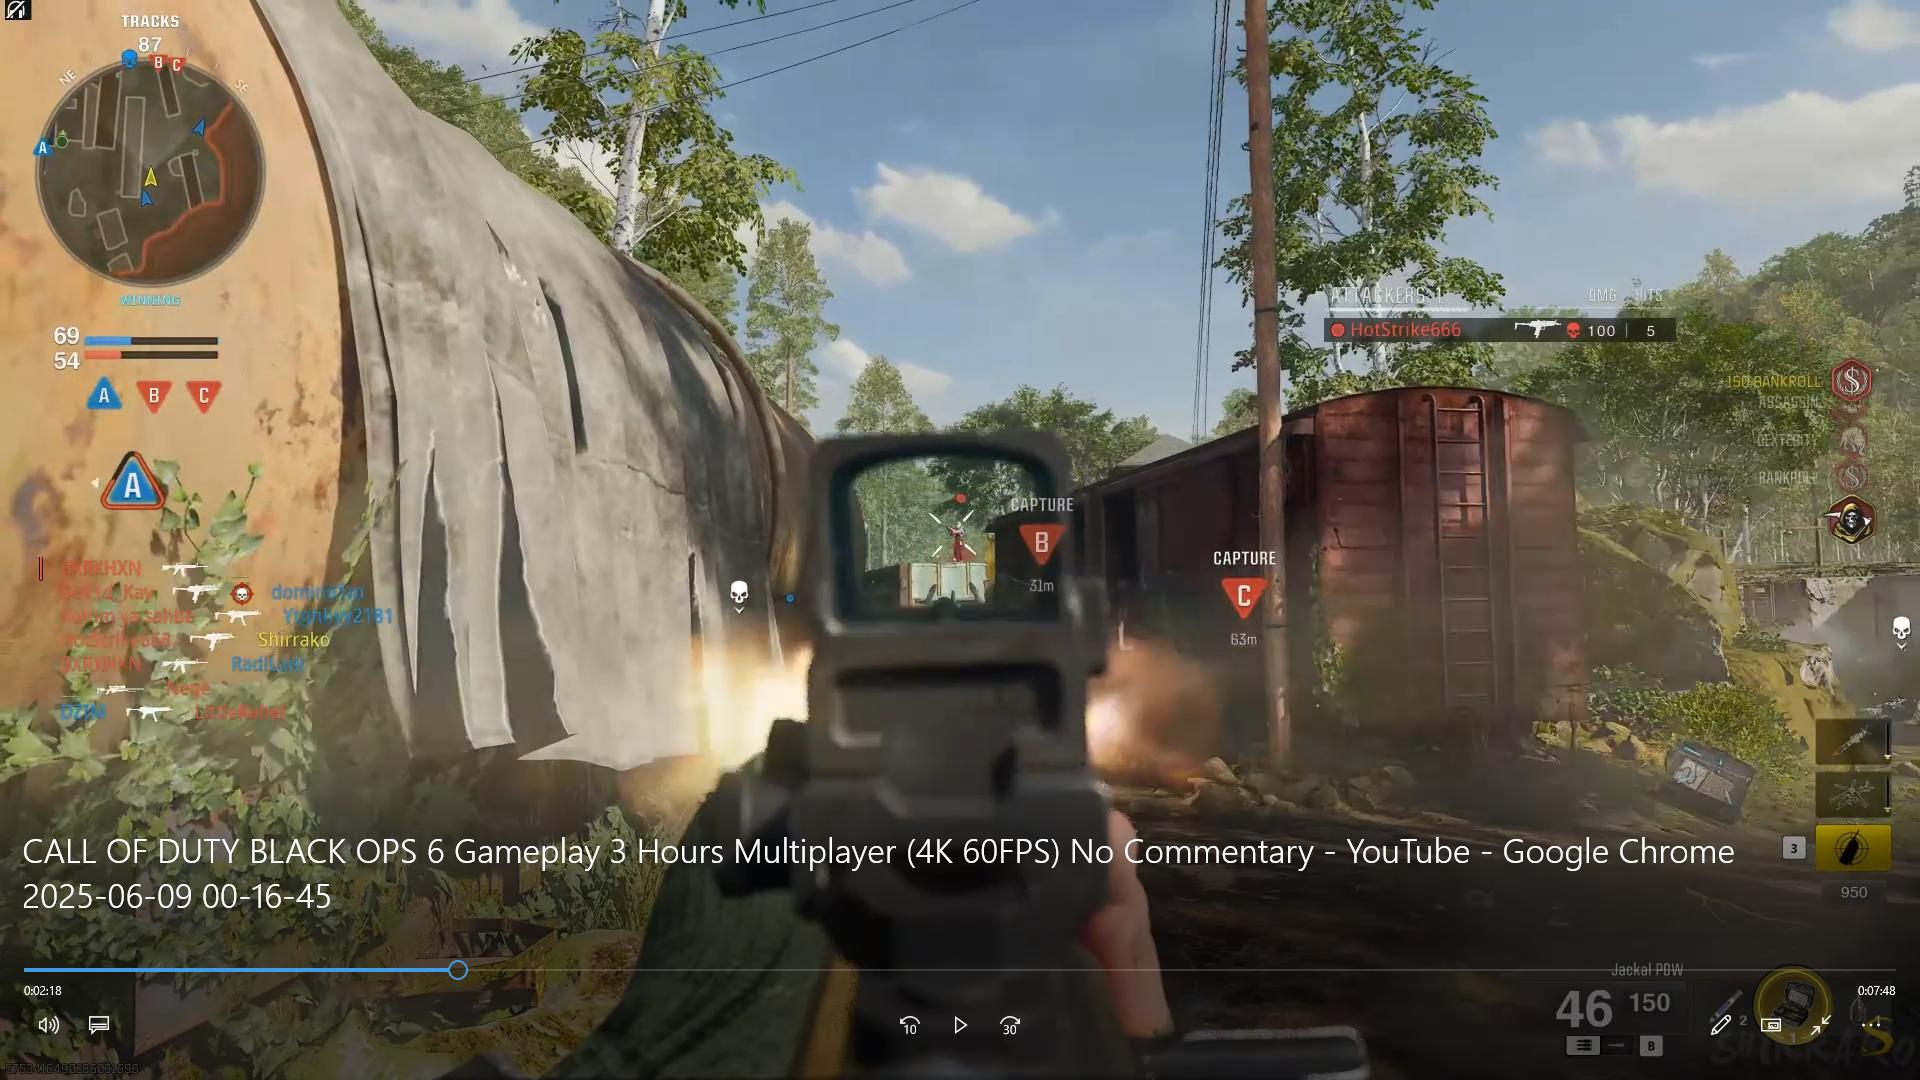Enemy: (939, 517, 977, 564)
